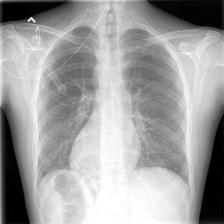normal: (31, 22, 192, 189)
